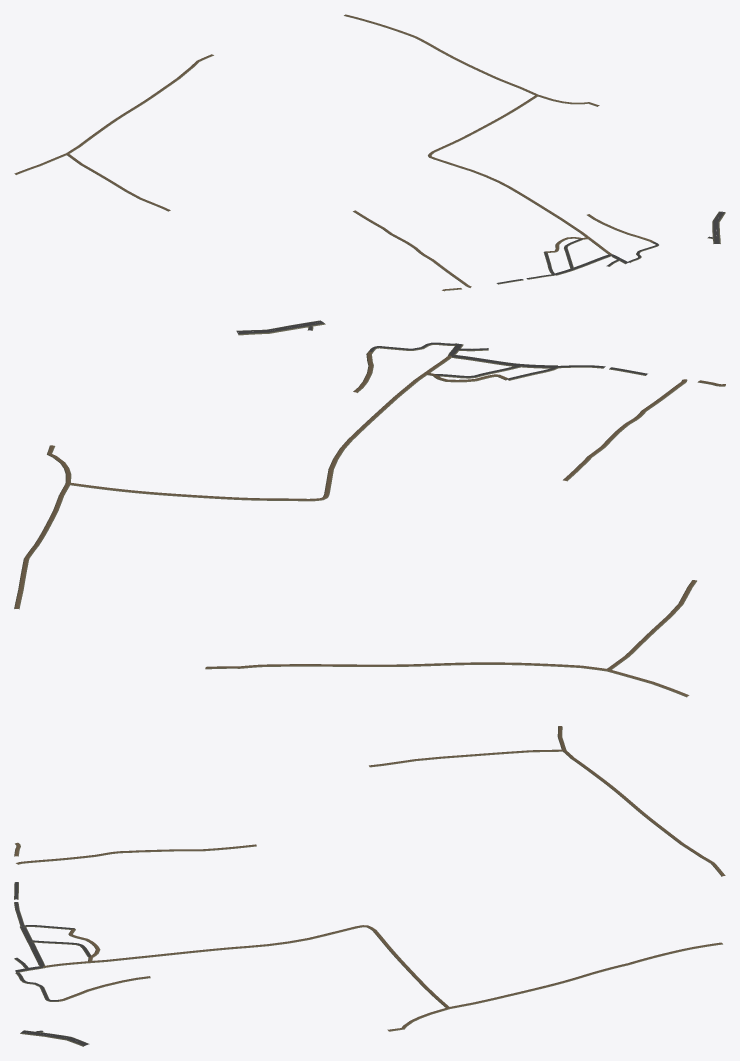
3 views of the same model, one above another, from view 1: azimuth 30°, elevation 25°; view 2: azimuth 150°, elevation 25°; view 3: azimuth 270°, elevation 25° (orthographic). The views are drawn at different scales.
Visible parts, largest first — view 1: roads; view 2: roads; view 3: roads.
Part boxes in pixels (x1=…): roads: x1=14, y1=14, x2=725, y2=291; roads: x1=14, y1=320, x2=725, y2=697; roads: x1=14, y1=726, x2=725, y2=1046.
Size of the model in its own units: 804 by 53.96 by 805.
